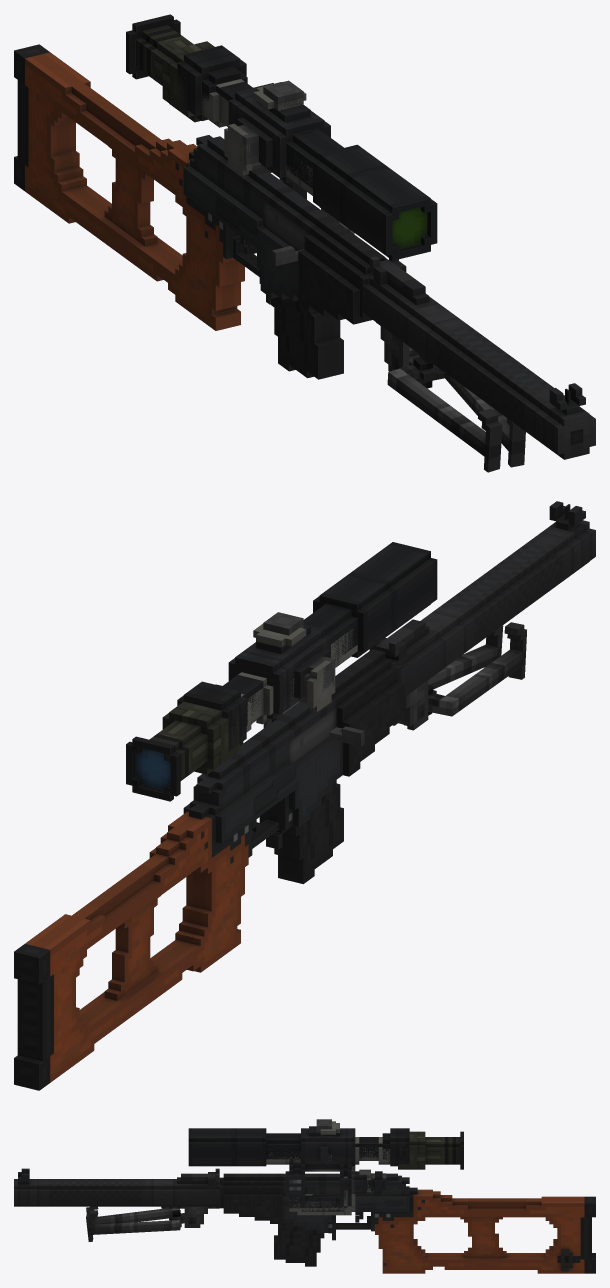
File: RD_VSS.glb
The picture shows the model from 3 angles, top to bottom: view 1: azimuth 30°, elevation 25°; view 2: azimuth 150°, elevation 25°; view 3: azimuth 270°, elevation 25°; orthographic projection. The views are drawn at different scales.
Visible parts, largest first — view 1: VSS, SCOPE_PO6, SCOPE_PSO1, VSS_CLIP, DIPOD1_LEG1, DIPOD1_LEG2, DIPOD1_BODY, DIPOD1_BODY2; view 2: VSS, SCOPE_PO6, SCOPE_PSO1, VSS_CLIP, DIPOD1_LEG1, DIPOD1_LEG2, DIPOD1_BODY; view 3: VSS, SCOPE_PO6, SCOPE_PSO1, VSS_CLIP, DIPOD1_LEG2, DIPOD1_LEG1, DIPOD1_BODY.
Boxes of the visible parts, left/top/right/bottom form: VSS: left=14, top=44, right=595, bottom=459; SCOPE_PO6: left=177, top=45, right=437, bottom=260; SCOPE_PSO1: left=126, top=14, right=354, bottom=234; VSS_CLIP: left=270, top=297, right=343, bottom=379; DIPOD1_LEG1: left=387, top=368, right=502, bottom=472; DIPOD1_LEG2: left=432, top=372, right=525, bottom=467; DIPOD1_BODY: left=380, top=326, right=421, bottom=371; DIPOD1_BODY2: left=400, top=347, right=443, bottom=388; VSS: left=14, top=501, right=595, bottom=1090; SCOPE_PO6: left=177, top=542, right=437, bottom=751; SCOPE_PSO1: left=126, top=623, right=357, bottom=801; VSS_CLIP: left=274, top=780, right=343, bottom=884; DIPOD1_LEG1: left=428, top=622, right=526, bottom=716; DIPOD1_LEG2: left=428, top=625, right=503, bottom=689; DIPOD1_BODY: left=392, top=680, right=428, bottom=730; VSS: left=14, top=1168, right=595, bottom=1273; SCOPE_PO6: left=188, top=1119, right=409, bottom=1211; SCOPE_PSO1: left=266, top=1121, right=463, bottom=1215; VSS_CLIP: left=274, top=1222, right=324, bottom=1266; DIPOD1_LEG2: left=86, top=1210, right=181, bottom=1241; DIPOD1_LEG1: left=86, top=1206, right=179, bottom=1224; DIPOD1_BODY: left=184, top=1206, right=207, bottom=1227.
Bounding box in the file's own units: 0.1476 × 0.4134 × 1.48.
Materials: 4 (4 with a texture image).
